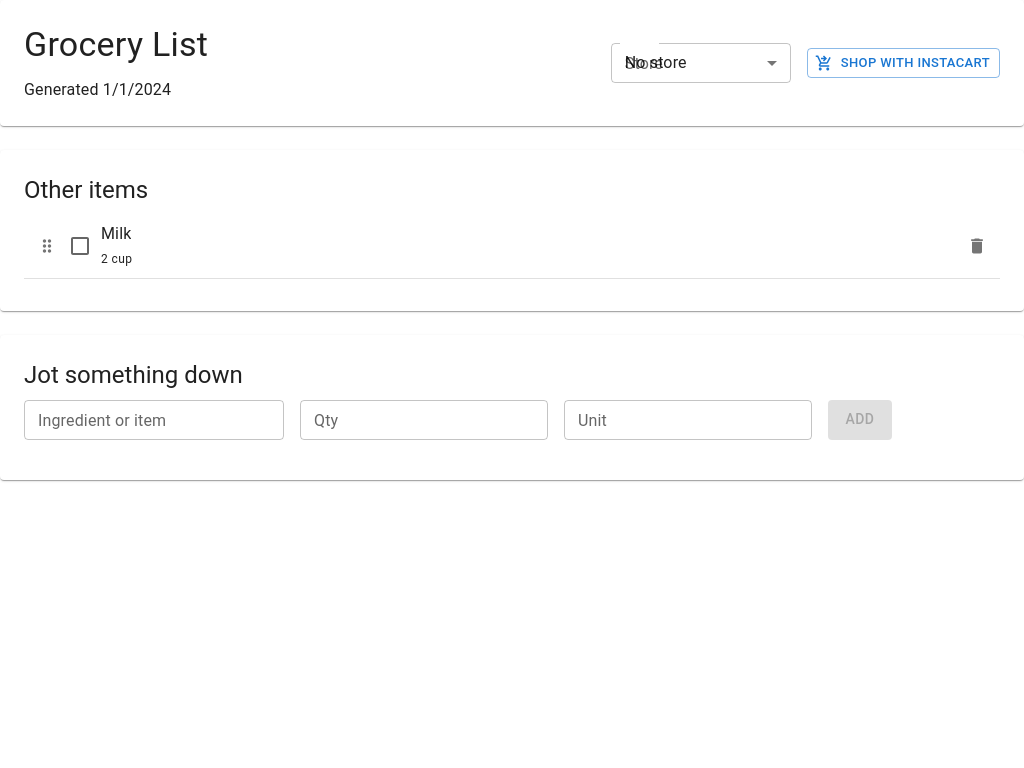
grocery list detail page › shop with Instacart › shows the error when the mutation fails
This screenshot has width=1024, height=768.
expect the text "Milk" is shown: met, box [101,222,132,246]
Click the button "Shop with Instacart". click: (903, 63)
box: [807,48,1000,78]
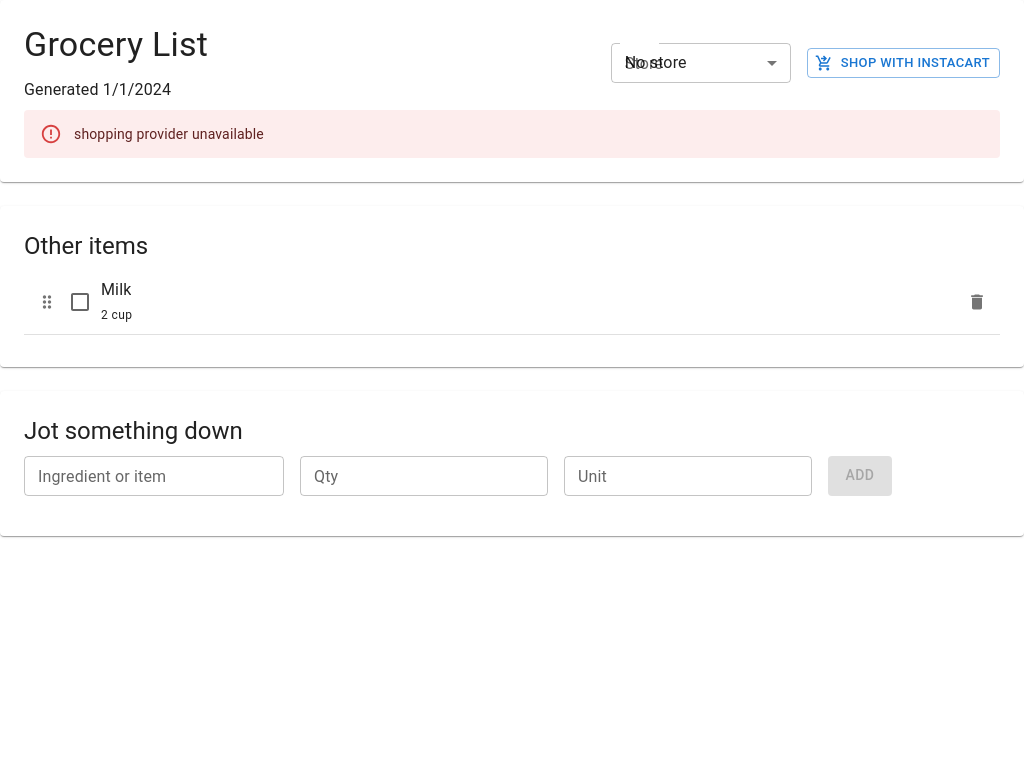
expect the text "shopping provider unavailable" is shown: met, box [74,126,264,142]
